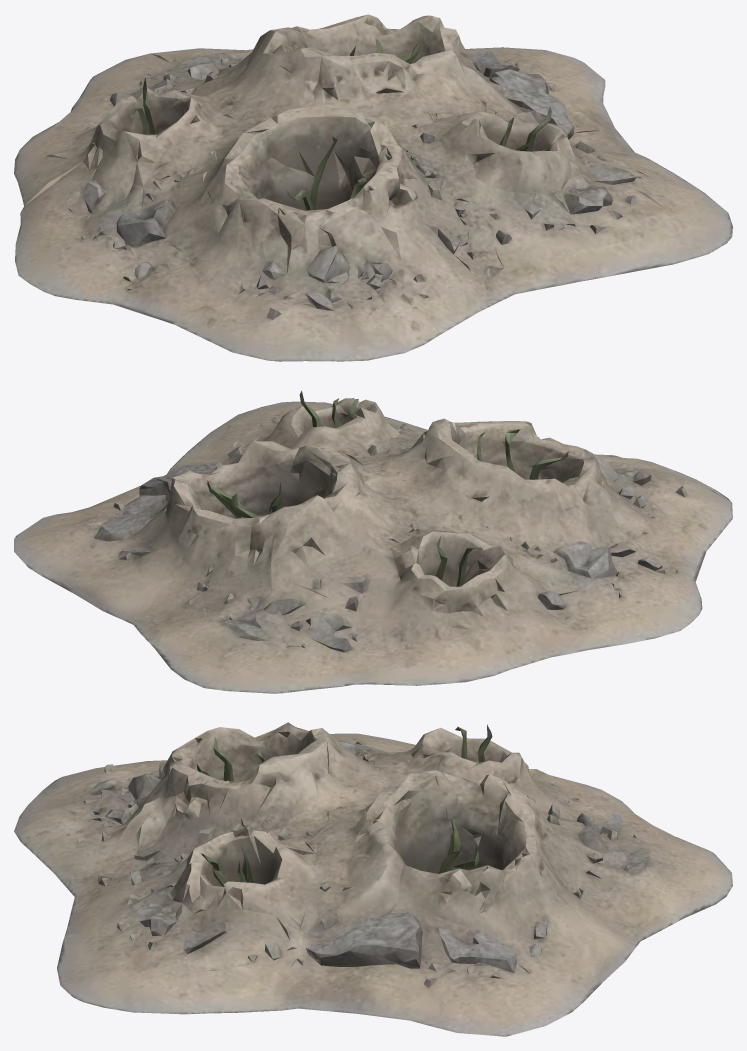
File: zone.prey.l2.glb
3 renders of one model, top to bottom at view 1: azimuth 30°, elevation 25°; view 2: azimuth 150°, elevation 25°; view 3: azimuth 270°, elevation 25°, orthographic. The views are drawn at different scales.
Visible parts, largest first — view 1: body; view 2: body; view 3: body.
Boxes of the visible parts, <box> form: body: <box>14,14,732,361</box>; body: <box>14,390,732,693</box>; body: <box>14,722,732,1036</box>.
Size of the model in its own units: 1.59 by 0.2846 by 1.59.
1 material, 1 textured.
